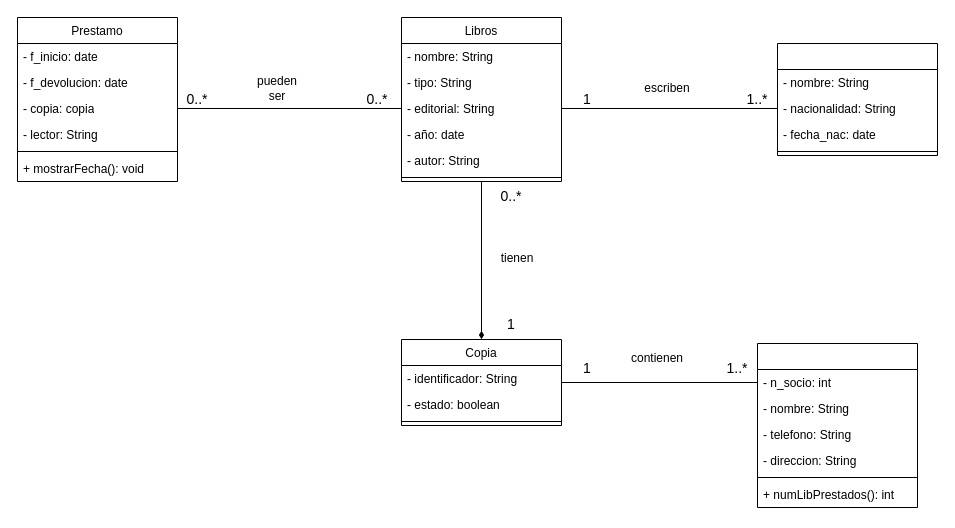
The diagram is 955 pixels wide and 528 high, and some of its shapes have lost their labels. Each missing label, with the box of its shape:
Autores: (776, 42, 938, 156)
Lectores: (756, 342, 918, 508)
